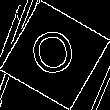O_S: (28, 25, 82, 85)
